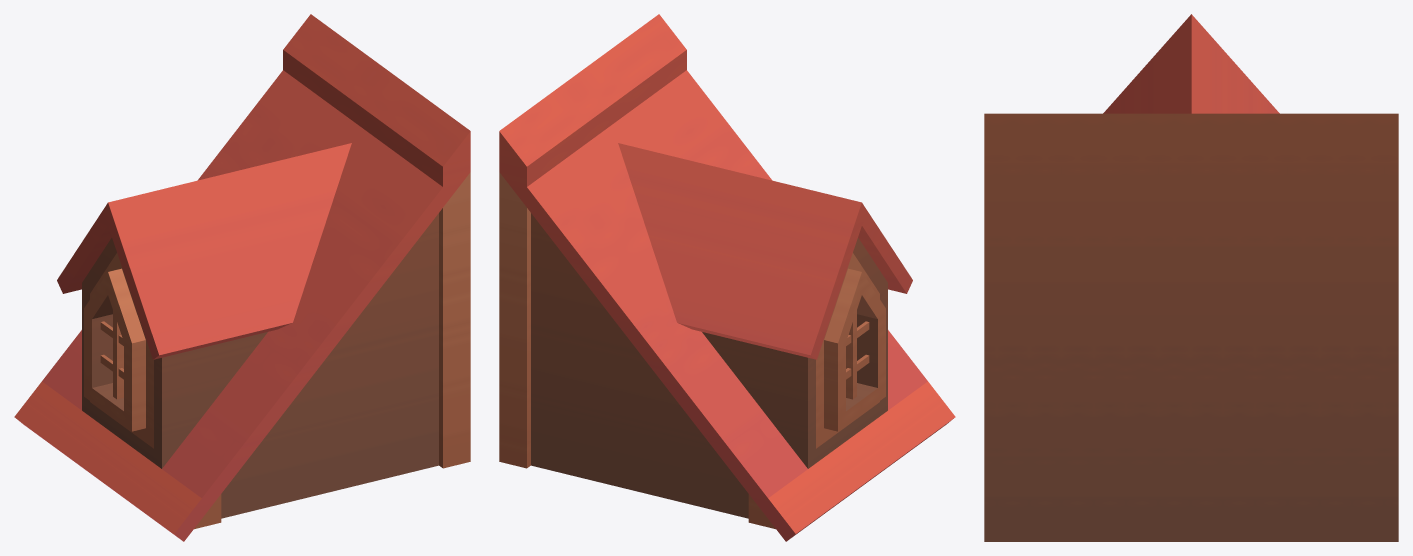
The model's file is roofHighWindow.fbx.
The picture shows the model from 3 angles, left to right: view 1: azimuth 30°, elevation 25°; view 2: azimuth 150°, elevation 25°; view 3: azimuth 270°, elevation 25°; orthographic projection. The views are drawn at different scales.
Parts seen in each view (by area): view 1: roofHighWindow; view 2: roofHighWindow; view 3: roofHighWindow.
Boxes of the visible parts, x1,y1,x2,y2 form: roofHighWindow: [14, 14, 470, 541]; roofHighWindow: [499, 14, 955, 541]; roofHighWindow: [984, 14, 1398, 541].
Bounding box in the file's own units: 1.07 × 1 × 1.18.
